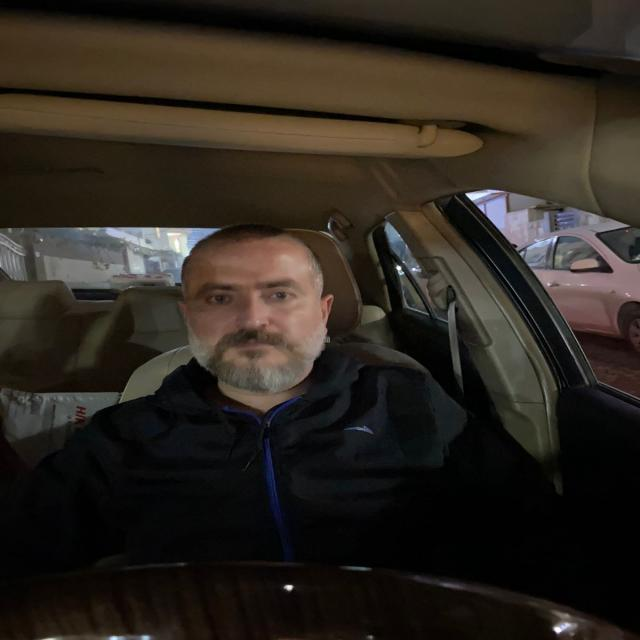person: (177, 221, 341, 408)
